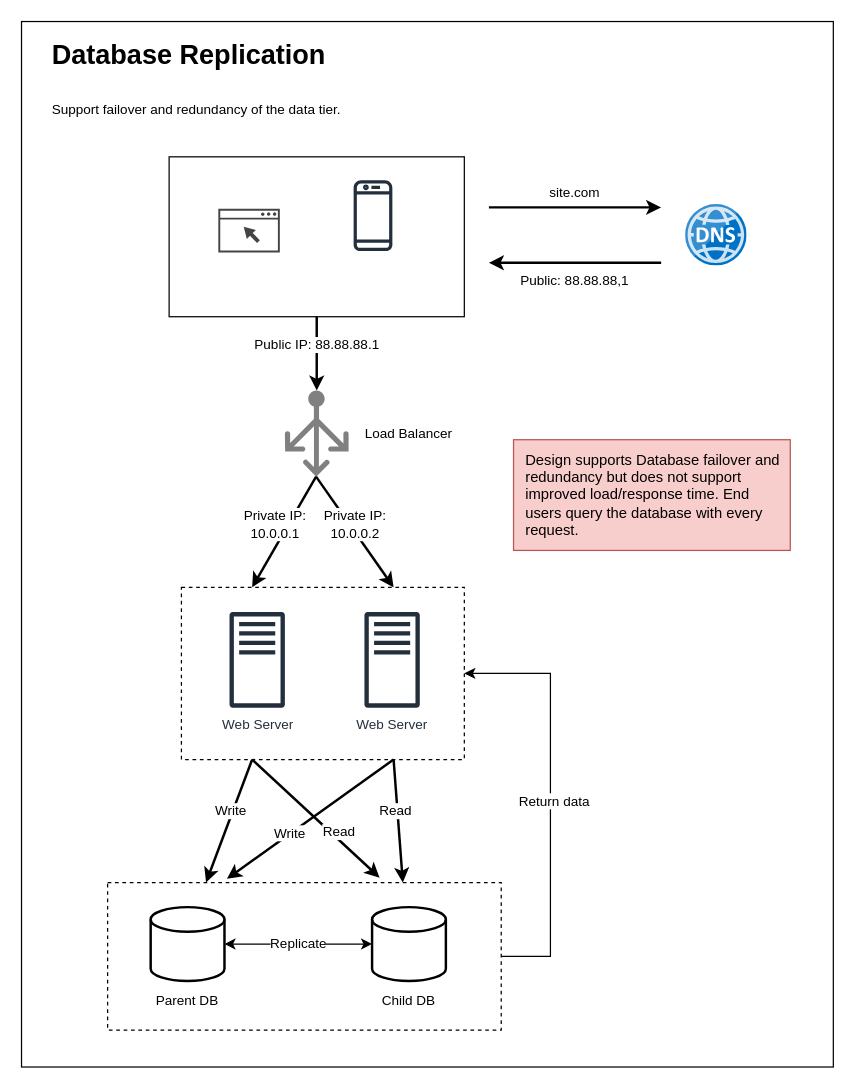
Image size: 855x1089. Some labels were removed from this diagram. Here are the shapes that lost their labels. From the top down, the box of each, then its label:
(218, 208, 279, 252): Browser
(353, 178, 392, 252): Mobile
